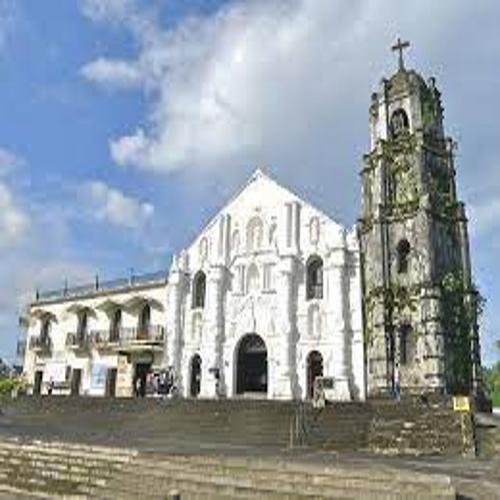Daraga Church: (158, 28, 487, 416)
